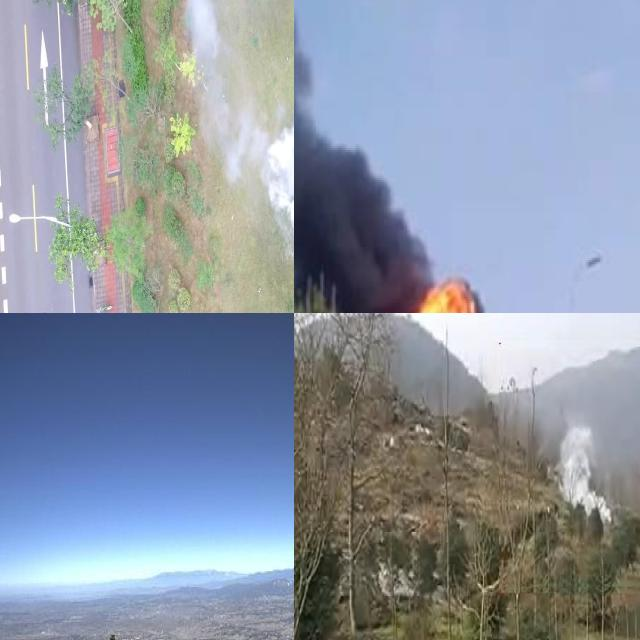fire: (384, 279, 499, 313)
smoke: (294, 0, 419, 311), (184, 0, 260, 185), (553, 423, 613, 525), (263, 126, 294, 253)
